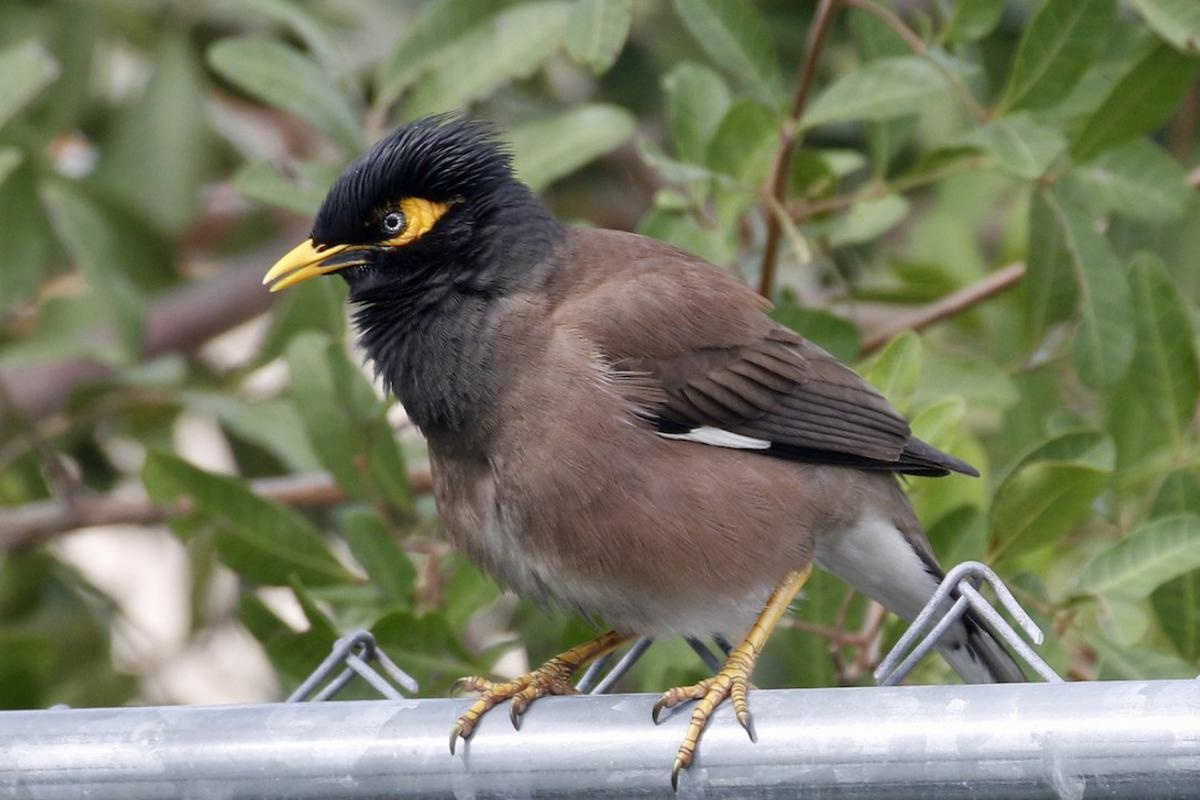myna: (270, 112, 870, 702)
